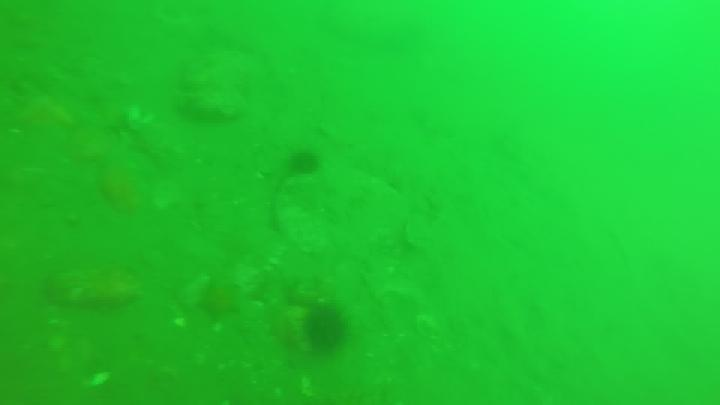echinus: (301, 303, 349, 356), (293, 151, 321, 177)
scallop: (415, 314, 449, 342), (128, 105, 155, 132)
